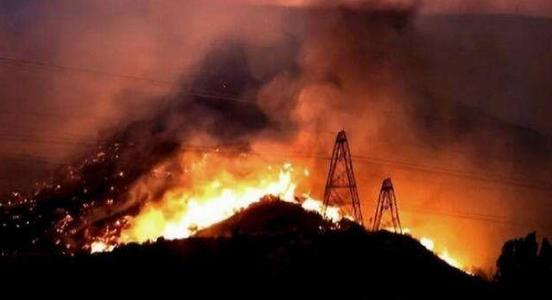fire: (74, 134, 320, 248)
smoke: (318, 20, 530, 206)
